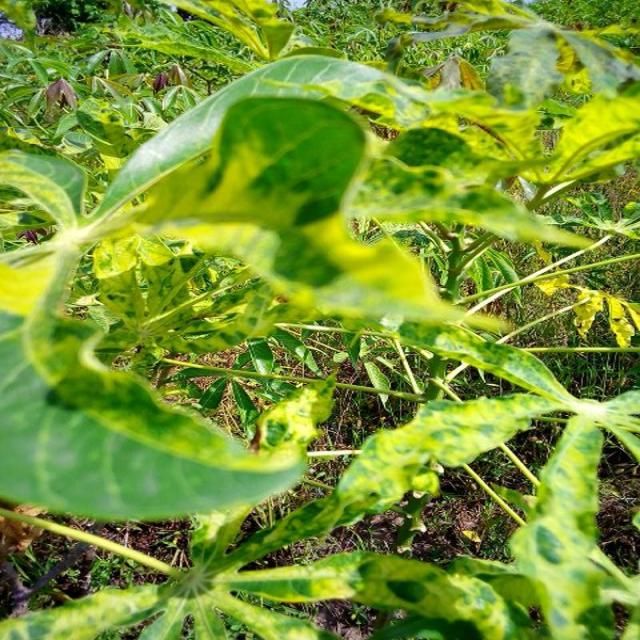cassava leaf: (2, 12, 638, 636), (2, 302, 320, 523)
